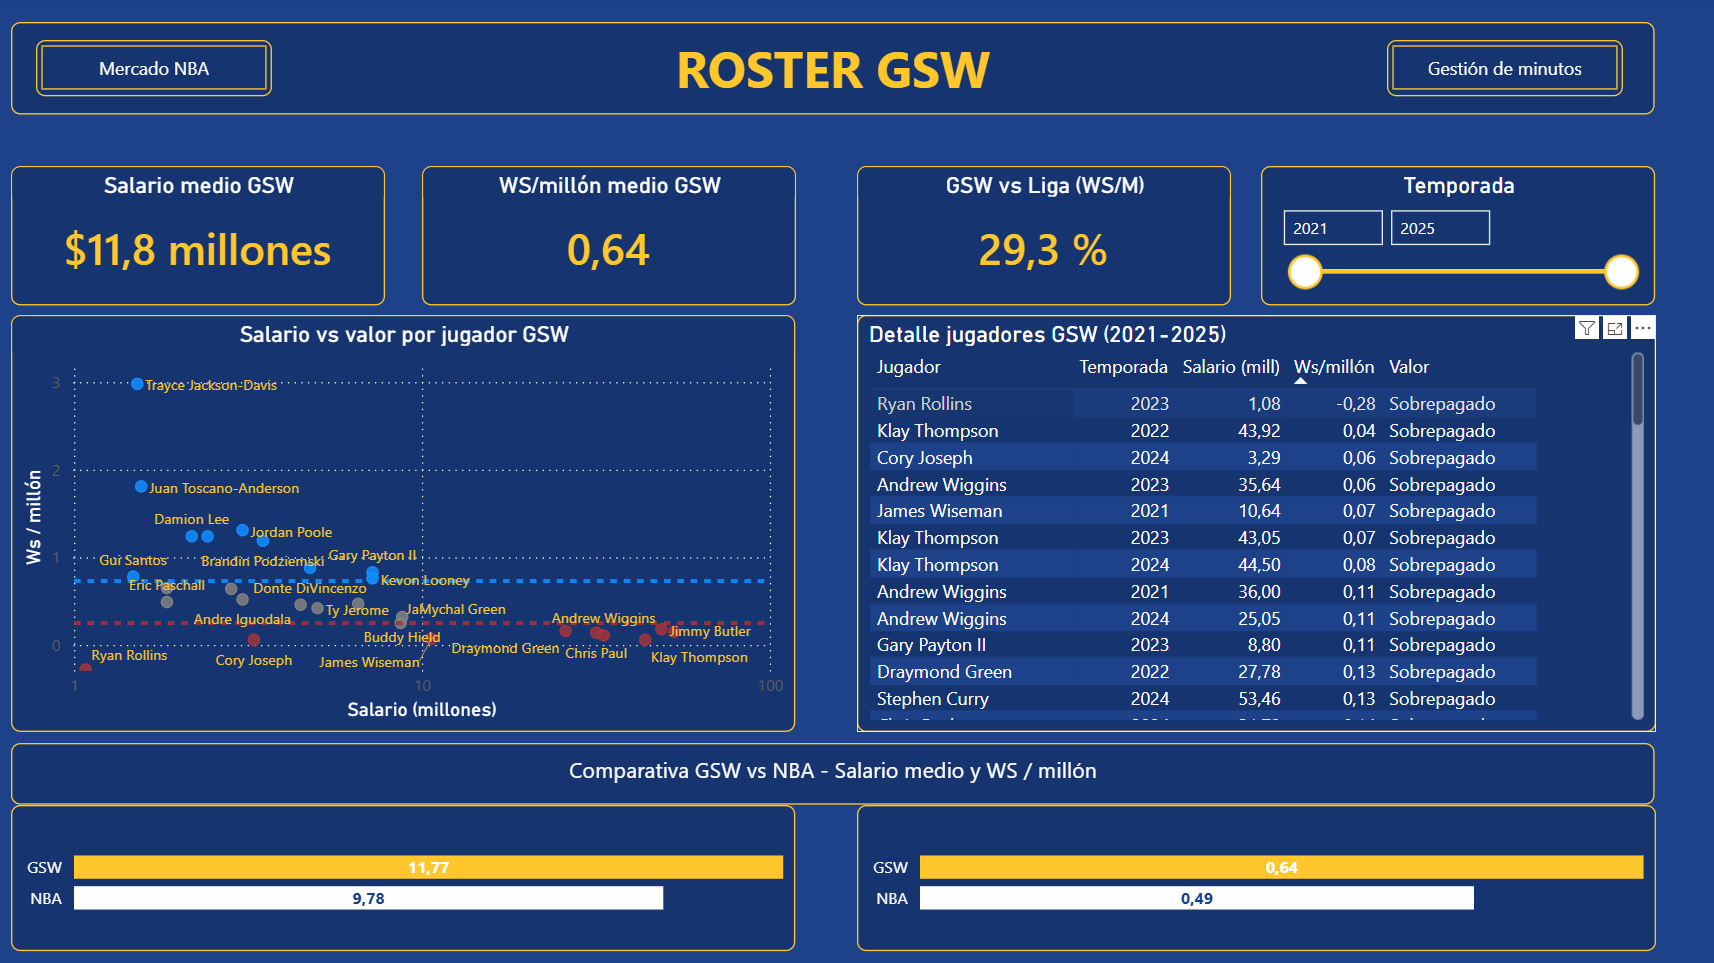

Layout of this report page (visuals, bound fields, positions):
{"tool":"powerbi","page":{"name":"Roster GSW","canvas":[1280,720],"ordinal":2},"visuals":[{"type":"cardVisual","title":"Salario medio GSW","fields":{"Data":["Avg(pbi_roster_gsw_media.Salario (mill))"]},"box":[9.3,125,278.6,104.3],"z":0},{"type":"cardVisual","title":"GSW vs Liga (WS/M)","fields":{"Data":["pbi_mercado_nba.GSW vs Liga %"]},"box":[640,125,278.6,104.3],"z":1000},{"type":"cardVisual","title":"WS/millón medio GSW","fields":{"Data":["Avg(pbi_roster_gsw_media.Ws/millón)"]},"box":[315.7,125,278.6,104.3],"z":2000},{"type":"slicer","title":"Temporada","fields":{"Values":["pbi_roster_gsw_detalle.Temporada"]},"box":[941.7,125,293.6,104.3],"z":3000},{"type":"scatterChart","title":"Salario vs valor por jugador GSW","fields":{"X":["Avg(pbi_roster_gsw_media.Salario (mill))"],"Y":["Avg(pbi_roster_gsw_media.Ws/millón)"],"Series":["pbi_roster_gsw_media.Jugador"]},"box":[9.3,236.4,585,311.4],"z":4000},{"type":"tableEx","title":"Detalle jugadores GSW (2021-2025)","fields":{"Values":["pbi_roster_gsw_detalle.Jugador","pbi_roster_gsw_detalle.Temporada","Avg(pbi_roster_gsw_detalle.Salario (mill))","Avg(pbi_roster_gsw_detalle.Ws/millón)","pbi_roster_gsw_detalle.Valor"]},"box":[640,236.4,595.7,311.4],"z":5000},{"type":"barChart","fields":{"Category":["comparativa_gsw_liga.Categoría"],"Y":["Avg(comparativa_gsw_liga.Salario)"]},"box":[9.3,602.1,585,108.6],"z":6000},{"type":"barChart","fields":{"Category":["comparativa_gsw_liga.Categoría"],"Y":["Avg(comparativa_gsw_liga.Ws / millón)"]},"box":[640,602.1,595.7,108.6],"z":7000},{"type":"textbox","box":[9.3,555.7,1226.4,46.4],"z":8000},{"type":"textbox","box":[9.3,17.9,1226.4,69.3],"z":9000},{"type":"pageNavigator","box":[27.6,31.3,176,41.8],"z":10000},{"type":"pageNavigator","box":[1035.3,31.3,176,41.8],"z":11000}]}

Visuals, with their boxes in screenshot pixels (x1, y1, x2, y2), scaled from the page's 1280x720 canvas onto the 1714x963 screenshot:
"Salario medio GSW" cardVisual: [left=12, top=167, right=386, bottom=307]
"GSW vs Liga (WS/M)" cardVisual: [left=857, top=167, right=1230, bottom=307]
"WS/millón medio GSW" cardVisual: [left=423, top=167, right=796, bottom=307]
"Temporada" slicer: [left=1261, top=167, right=1654, bottom=307]
"Salario vs valor por jugador GSW" scatterChart: [left=12, top=316, right=796, bottom=733]
"Detalle jugadores GSW (2021-2025)" tableEx: [left=857, top=316, right=1655, bottom=733]
barChart - comparativa_gsw_liga.Categoría x Avg(comparativa_gsw_liga.Salario): [left=12, top=805, right=796, bottom=951]
barChart - comparativa_gsw_liga.Categoría x Avg(comparativa_gsw_liga.Ws / millón): [left=857, top=805, right=1655, bottom=951]
textbox: [left=12, top=743, right=1655, bottom=805]
textbox: [left=12, top=24, right=1655, bottom=117]
pageNavigator: [left=37, top=42, right=273, bottom=98]
pageNavigator: [left=1386, top=42, right=1622, bottom=98]
